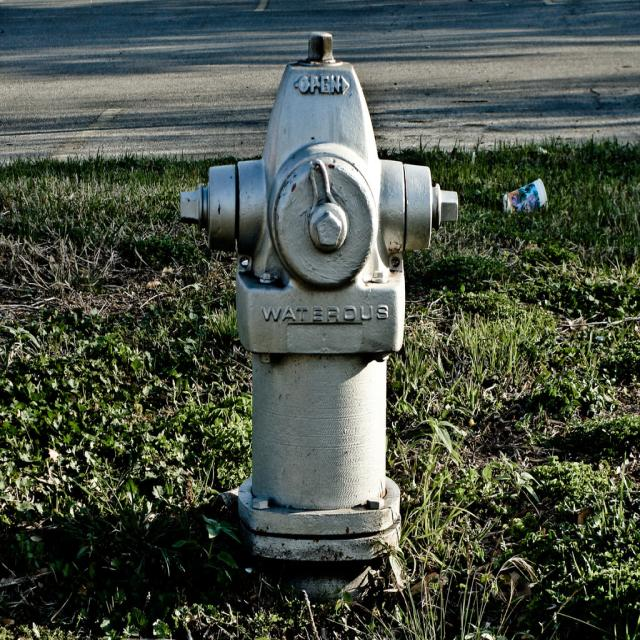fire_hydrant: (181, 28, 459, 593)
